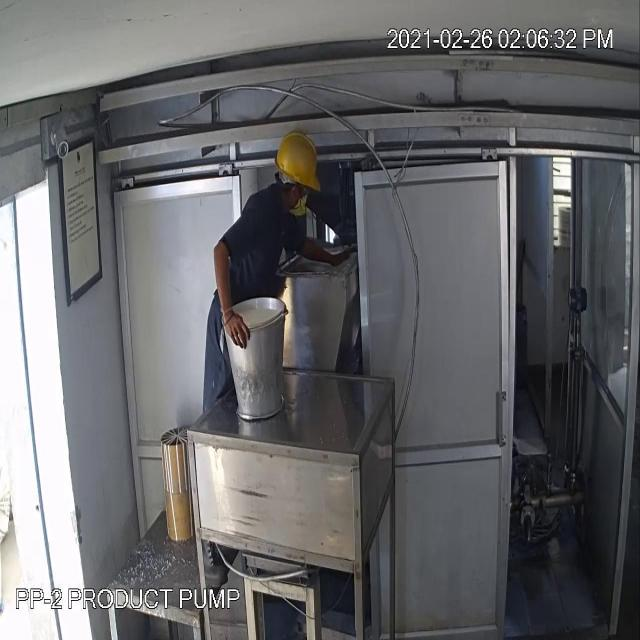helmet: (264, 130, 326, 197)
